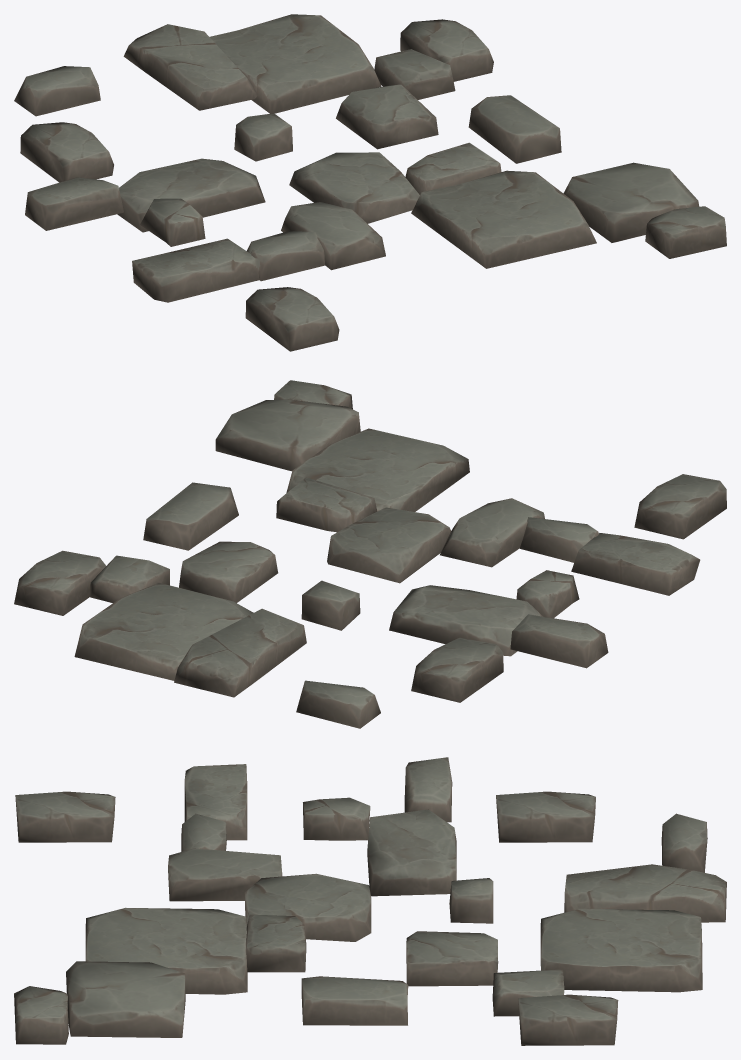
File: SM_FW01_Floor_Tile_Group_10.fbx
3 renders of one model, top to bottom at view 1: azimuth 30°, elevation 25°; view 2: azimuth 150°, elevation 25°; view 3: azimuth 270°, elevation 25°, orthographic. The views are drawn at different scales.
Parts seen in each view (by area): view 1: SM_FW01_Floor_Tile_Group_10; view 2: SM_FW01_Floor_Tile_Group_10; view 3: SM_FW01_Floor_Tile_Group_10.
Part boxes in pixels (x1,y1,x2,y2): SM_FW01_Floor_Tile_Group_10: (14,14,726,351); SM_FW01_Floor_Tile_Group_10: (14,380,726,728); SM_FW01_Floor_Tile_Group_10: (14,757,726,1045).
Size of the model in its own units: 2.58 by 0.2061 by 2.97.
